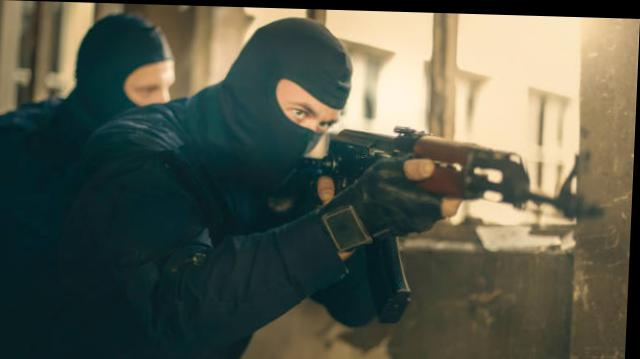other: (63, 2, 423, 358)
